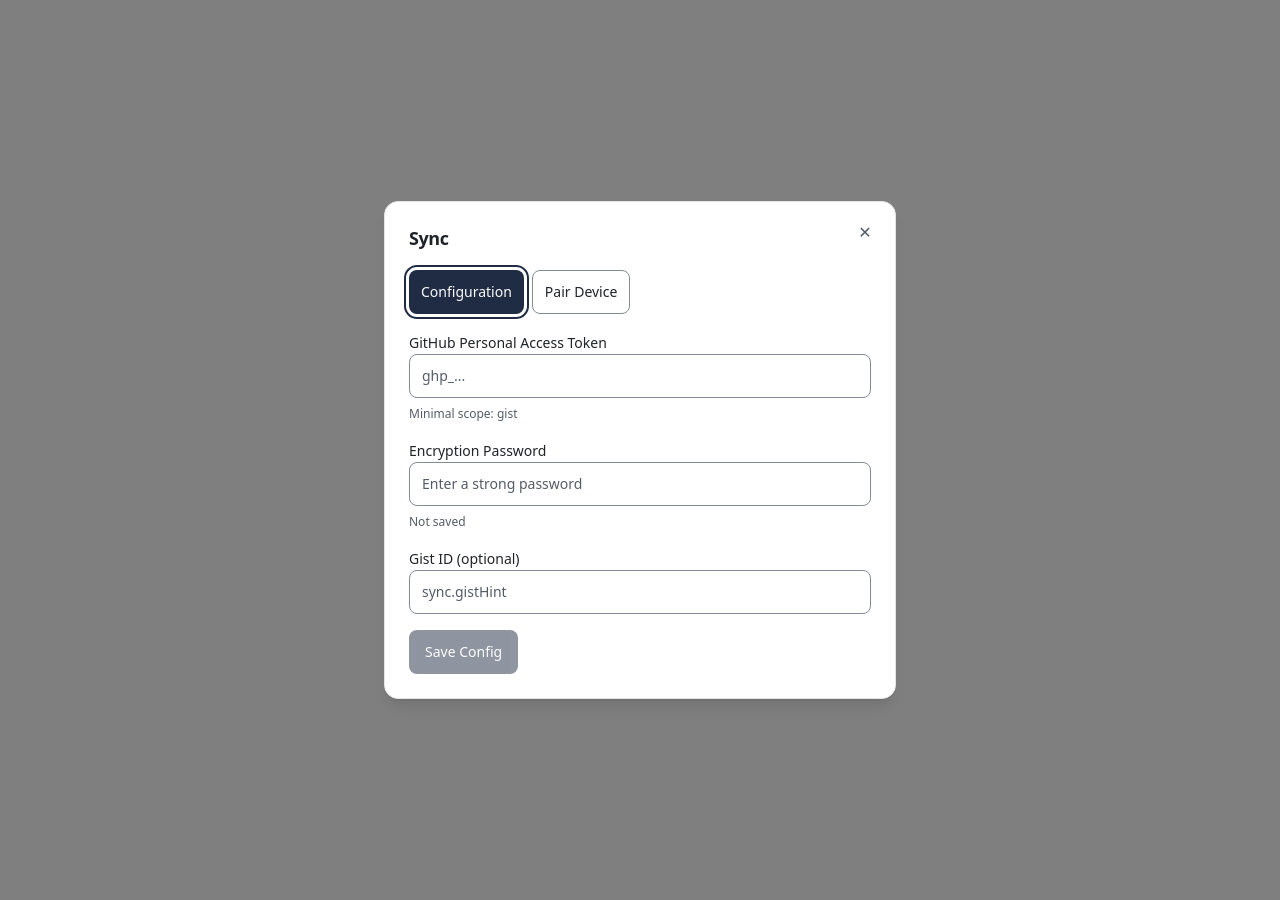
SyncPanel › generates pairing code
The image size is (1280, 900).
Expected: the button "Save Config" is shown, [409,630,518,674]
Type "mypassword" into the password field labelled "Encryption Password" at (640, 484), box [409,462,871,506]
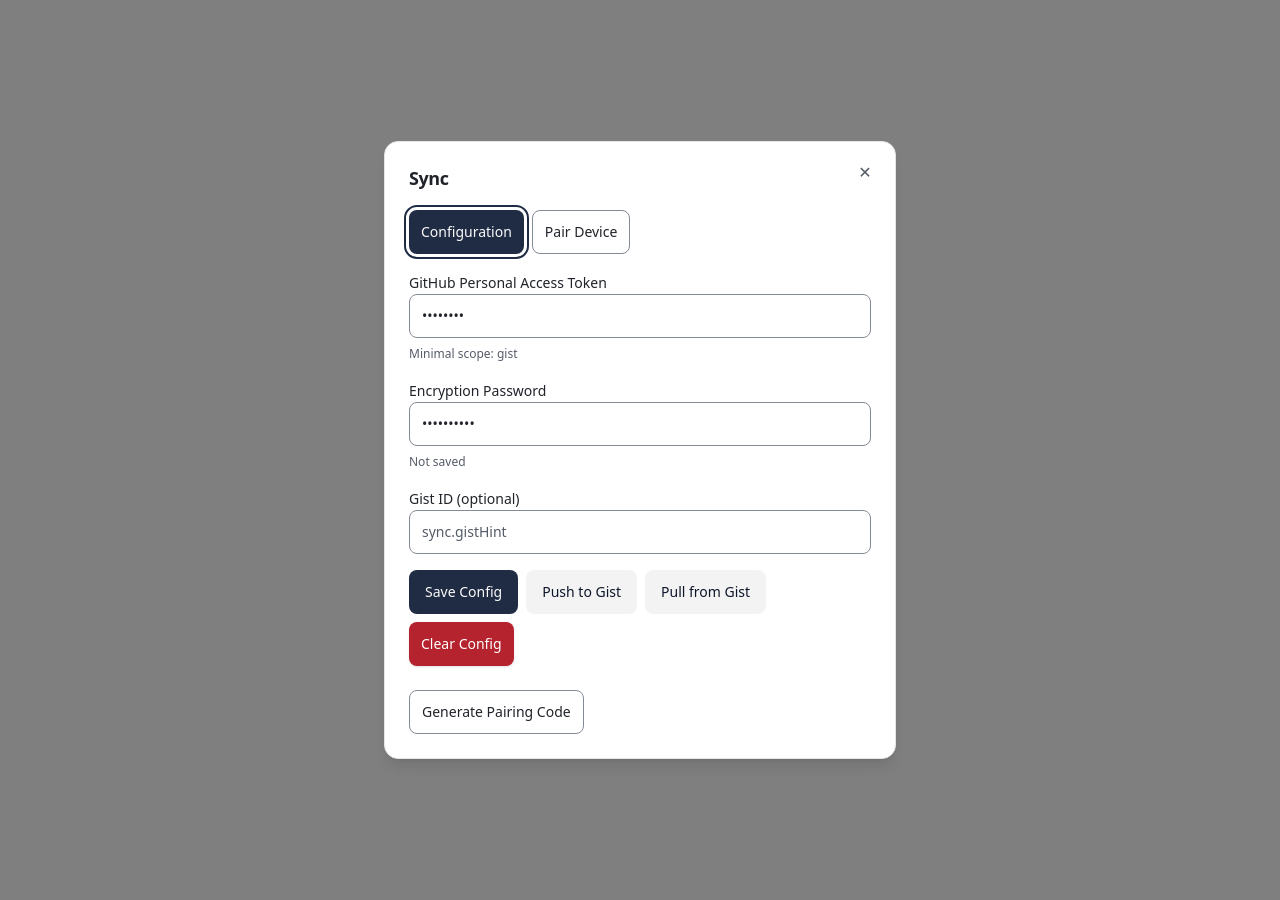
Click the button "Generate Pairing Code" at (496, 712), box [409,690,584,734]
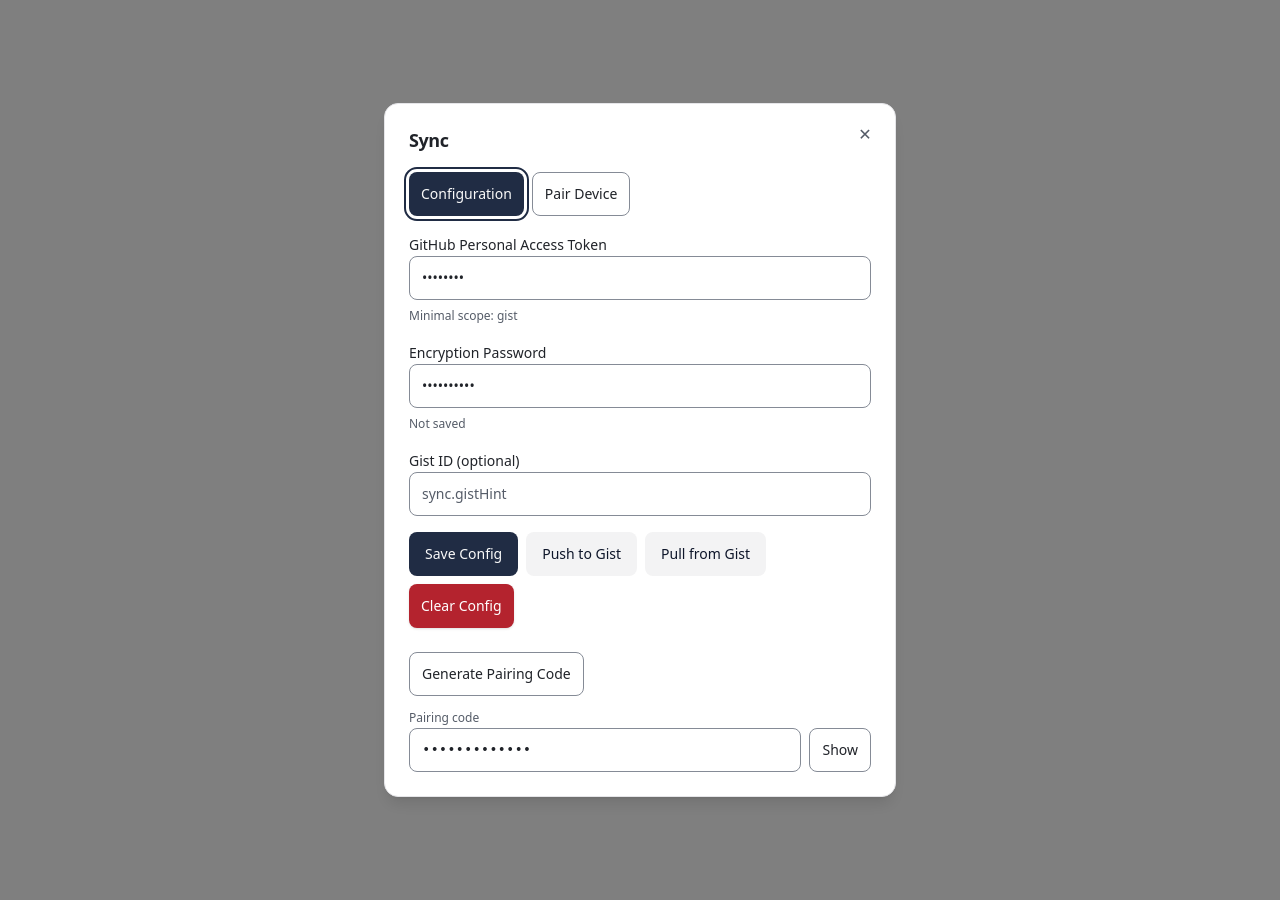
Result: the password field showing "pair-code-123" is shown at [409,728,802,772]
